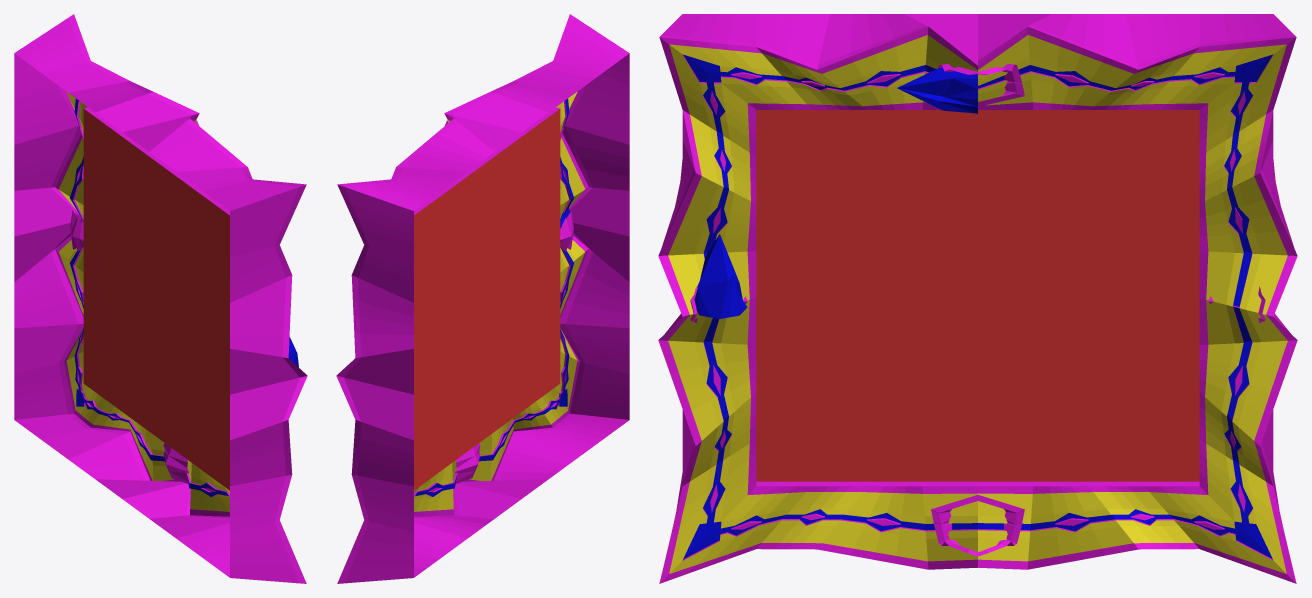
Rendered from FakeTVAnim.fbx.
3 renders of one model, left to right at view 1: azimuth 30°, elevation 25°; view 2: azimuth 150°, elevation 25°; view 3: azimuth 270°, elevation 25°, orthographic. The views are drawn at different scales.
Parts seen in each view (by area): view 1: Cube, Cube.001; view 2: Cube, Cube.001; view 3: Cube, Cube.001.
Part boxes in pixels (box(x1,y1,x2,y2)): Cube: box(14, 14, 307, 583); Cube.001: box(70, 120, 198, 483); Cube: box(336, 14, 629, 583); Cube.001: box(445, 120, 573, 483); Cube: box(658, 14, 1297, 583); Cube.001: box(690, 64, 1265, 556).
Bounding box in the file's own units: 46.21 × 218 × 231.
